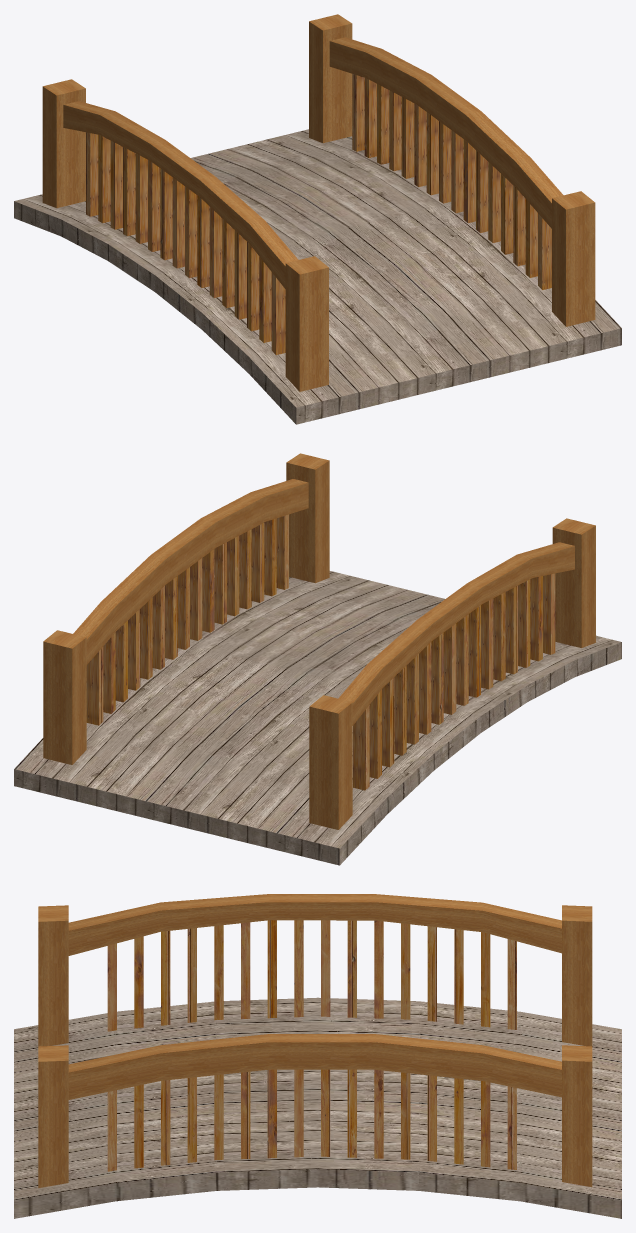
File: bridge (2).FBX
3 views of the same model, one above another, from view 1: azimuth 30°, elevation 25°; view 2: azimuth 150°, elevation 25°; view 3: azimuth 270°, elevation 25° (orthographic). The views are drawn at different scales.
Visible parts, largest first — view 1: Plane007, Box065, Box045, Box063, Box043, Box040, Box060, Box052, Box055, Box049, Box039, Box056 (+27 smaller); view 2: Plane007, Box065, Box045, Box040, Box060, Box043, Box063, Box042, Box062, Box054, Box052, Box039 (+27 smaller); view 3: Plane007, Box065, Box045, Box063, Box043, Box060, Box040, Box055, Box039, Box049, Box053, Box054 (+27 smaller).
Part boxes in pixels (x1=…): Plane007: x1=14, y1=129, x2=621, y2=424; Box065: x1=329, y1=37, x2=563, y2=228; Box045: x1=63, y1=101, x2=298, y2=288; Box063: x1=552, y1=191, x2=595, y2=326; Box043: x1=285, y1=256, x2=328, y2=391; Box040: x1=42, y1=79, x2=85, y2=208; Box060: x1=309, y1=14, x2=352, y2=143; Box052: x1=209, y1=207, x2=222, y2=297; Box055: x1=148, y1=160, x2=160, y2=251; Box049: x1=160, y1=168, x2=172, y2=260; Box039: x1=197, y1=195, x2=209, y2=287; Box056: x1=135, y1=153, x2=147, y2=243; Plane007: x1=14, y1=571, x2=621, y2=865; Box065: x1=73, y1=479, x2=308, y2=664; Box045: x1=338, y1=542, x2=574, y2=725; Box040: x1=309, y1=695, x2=352, y2=829; Box060: x1=43, y1=630, x2=86, y2=764; Box043: x1=552, y1=518, x2=595, y2=648; Box063: x1=286, y1=453, x2=329, y2=583; Box042: x1=353, y1=705, x2=369, y2=790; Box062: x1=86, y1=647, x2=103, y2=725; Box054: x1=443, y1=623, x2=456, y2=714; Box052: x1=481, y1=598, x2=493, y2=689; Box039: x1=468, y1=605, x2=480, y2=697; Plane007: x1=14, y1=997, x2=621, y2=1218; Box065: x1=68, y1=1034, x2=561, y2=1099; Box045: x1=68, y1=894, x2=561, y2=955; Box063: x1=38, y1=1045, x2=68, y2=1187; Box043: x1=38, y1=905, x2=68, y2=1046; Box060: x1=562, y1=1045, x2=592, y2=1187; Box040: x1=562, y1=905, x2=592, y2=1046; Box055: x1=374, y1=920, x2=383, y2=1018; Box039: x1=267, y1=920, x2=276, y2=1018; Box049: x1=347, y1=920, x2=356, y2=1017; Box053: x1=294, y1=920, x2=303, y2=1017; Box054: x1=321, y1=920, x2=330, y2=1016.
Size of the model in its own units: 200 by 89.76 by 300.
5 materials, 5 textured.
